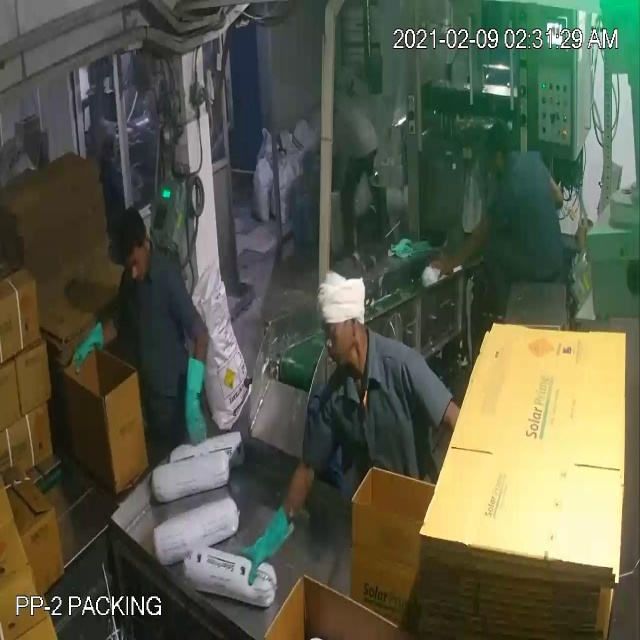Guantes: (237, 498, 300, 587), (167, 341, 214, 448), (56, 315, 113, 376)
Sin_guantes: (419, 208, 503, 281)
